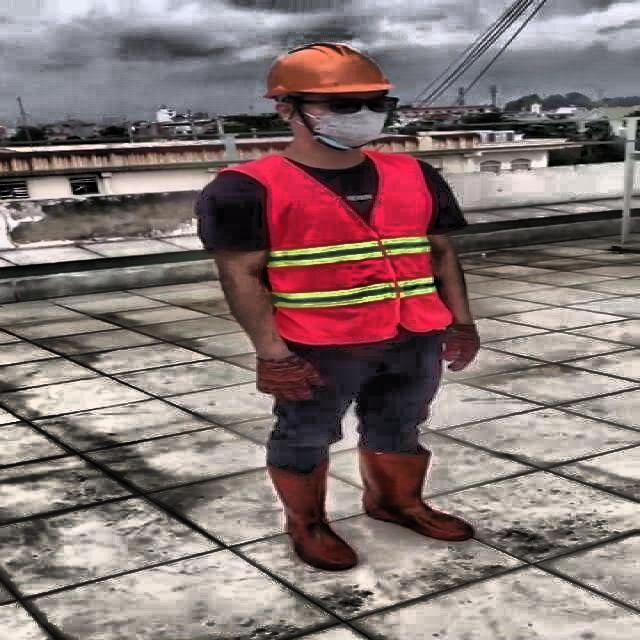safety_helmet: (249, 42, 395, 99)
safety_jacket: (265, 153, 450, 345)
